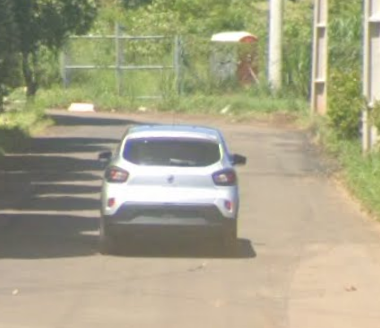car: (95, 112, 252, 254)
